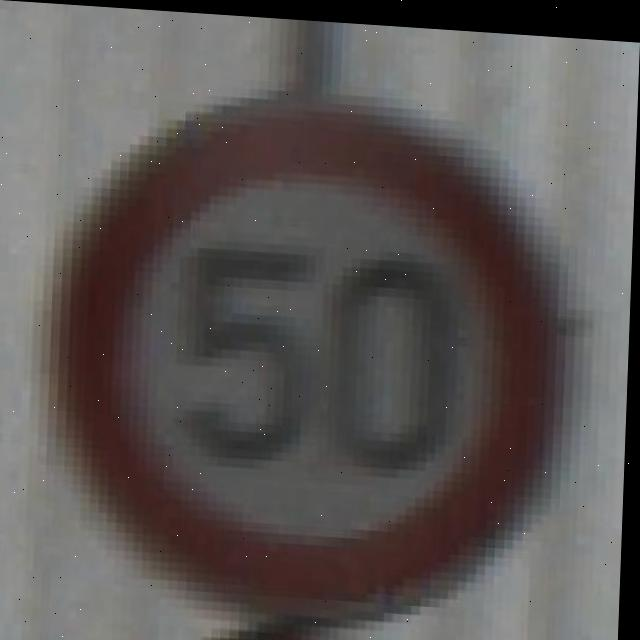Speed limit 50: (45, 73, 577, 625)
